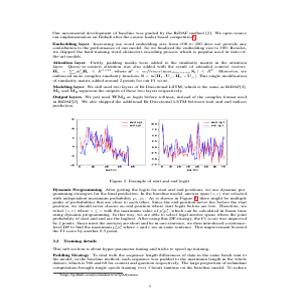diagram: (51, 111, 252, 177)
text: (51, 184, 247, 280), (51, 28, 249, 110)
